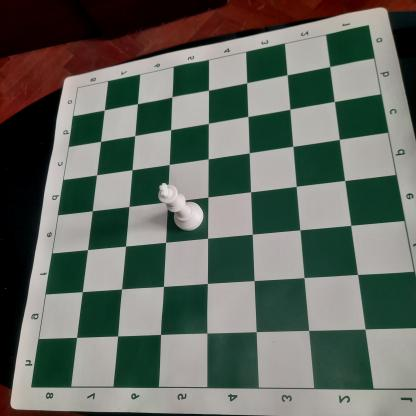white-king: (156, 181, 205, 233)
